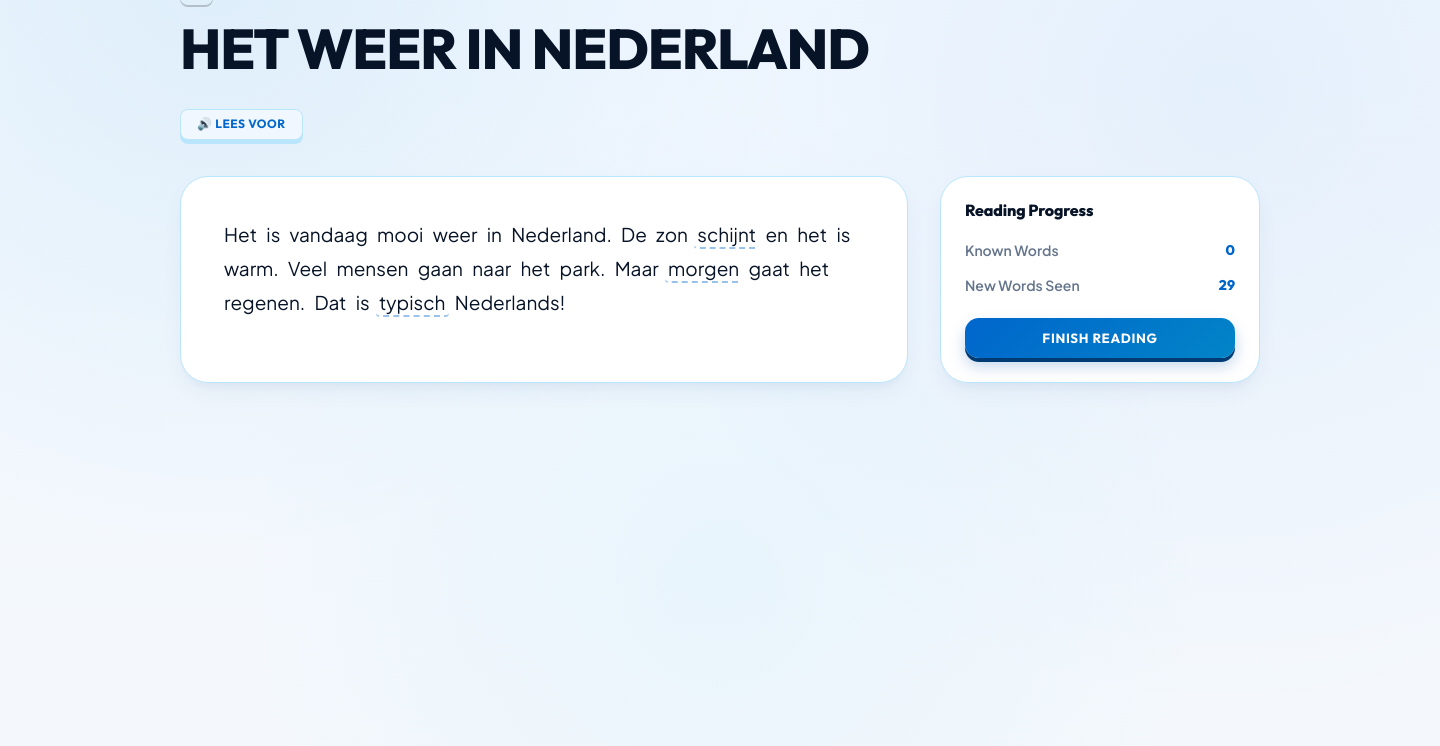
Test case: reading article page › finishes reading and reveals the post-reading challenge
Click the button "Finish Reading". click: coordinates (1100, 338)
box: [965,318,1235,358]
(page scrolled)
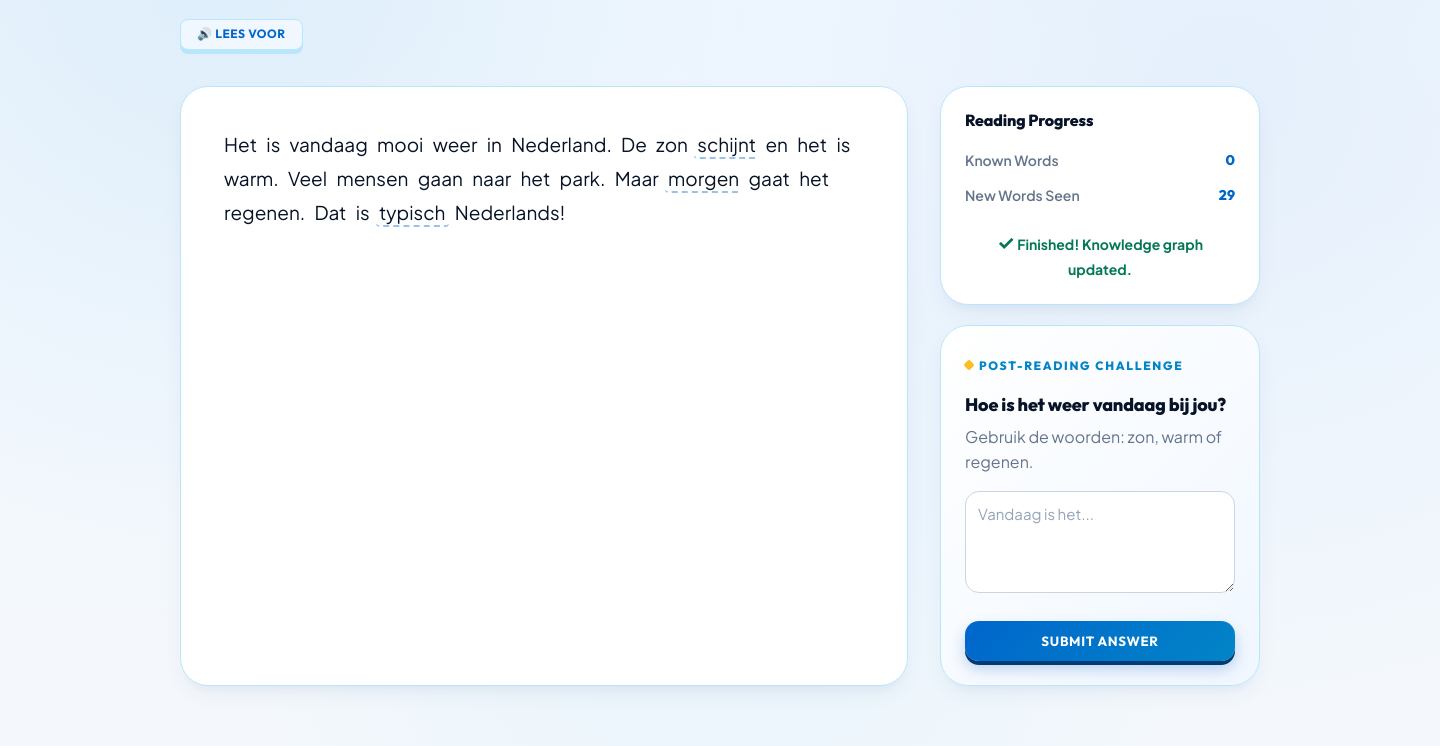
Check: the text "Finished!" is shown, box [1015,235,1203,278]
Check: the text "Hoe is het weer vandaag bij jou?" is shown, box [965,395,1235,416]
Check: the element that starts with "Post-Reading Challenge" is shown, box [940,325,1260,686]
